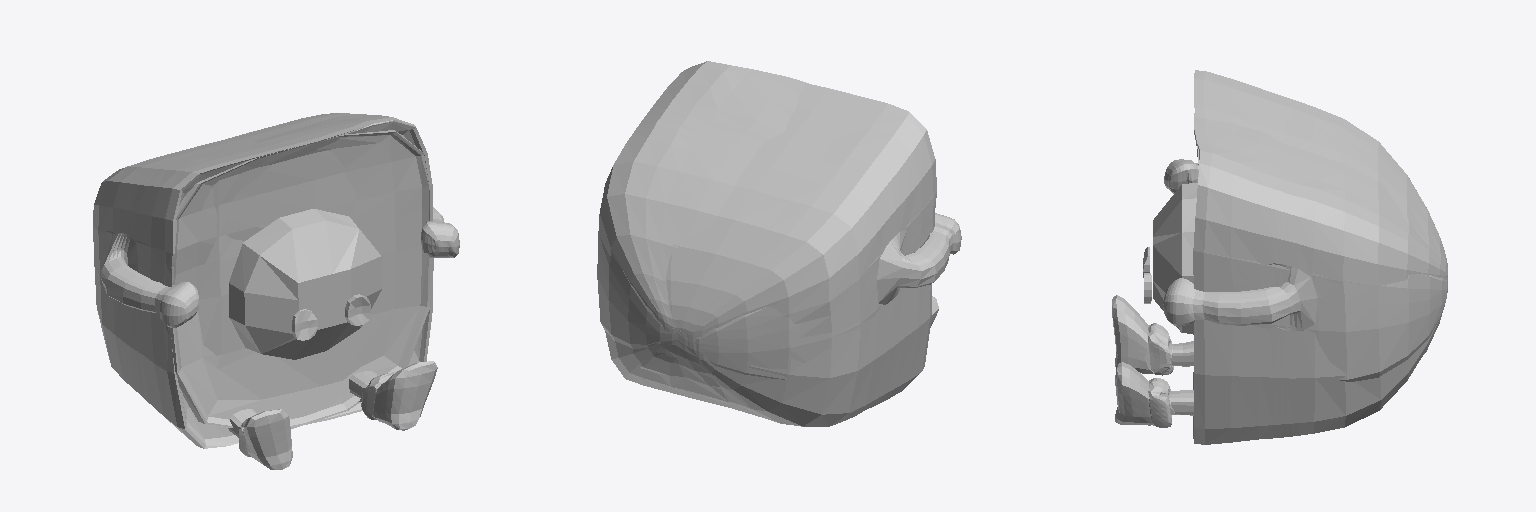
The model's file is Pal_000040.obj.
The picture shows the model from 3 angles: view 1: azimuth 30°, elevation 25°; view 2: azimuth 150°, elevation 25°; view 3: azimuth 270°, elevation 25°; orthographic projection.
Visible parts, largest first — view 1: Cuerpo_de_aguacate_3.001_Cube.002, Hueso_Cubo.003, Ojos_Cubo.002; view 2: Cuerpo_de_aguacate_3.001_Cube.002; view 3: Cuerpo_de_aguacate_3.001_Cube.002, Hueso_Cubo.003.
Part boxes in pixels (x1,y1,x2,y2): Cuerpo_de_aguacate_3.001_Cube.002: (93,113,459,469); Hueso_Cubo.003: (229,209,381,359); Ojos_Cubo.002: (292,294,370,340); Cuerpo_de_aguacate_3.001_Cube.002: (597,61,961,426); Cuerpo_de_aguacate_3.001_Cube.002: (1112,70,1447,444); Hueso_Cubo.003: (1153,183,1197,334).
Bounding box in the file's own units: 1.1 × 0.9421 × 1.01.